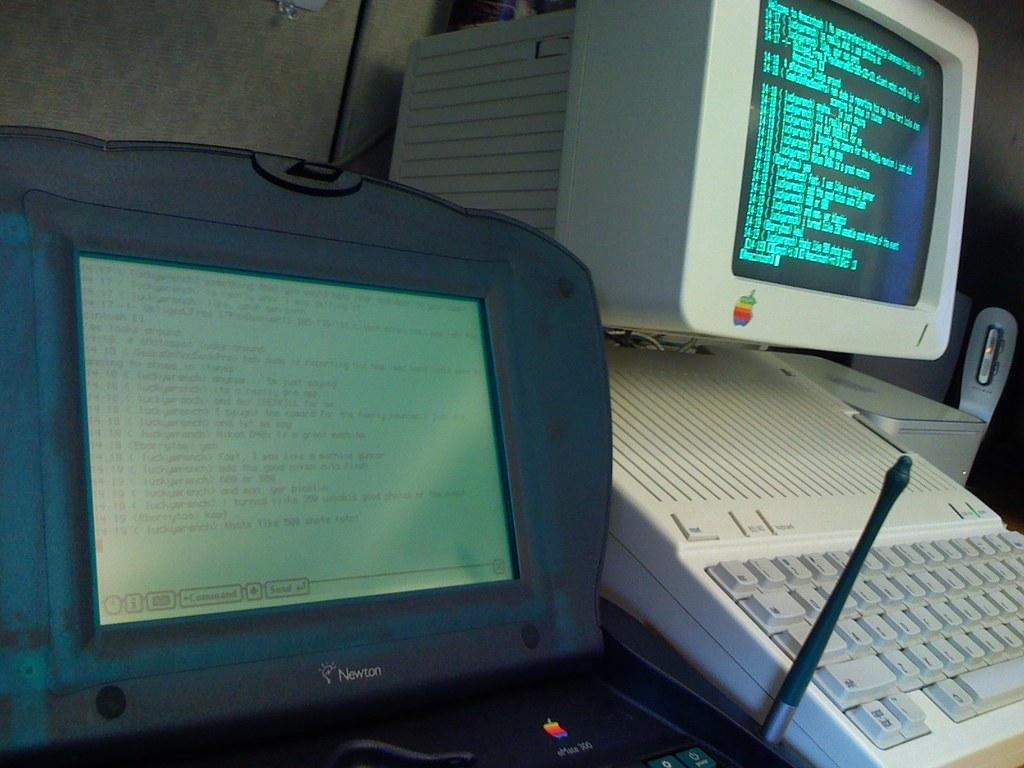Computer-keyboard: (701, 527, 1023, 753)
Computer-monitor: (382, 0, 1023, 767), (0, 123, 620, 767)
